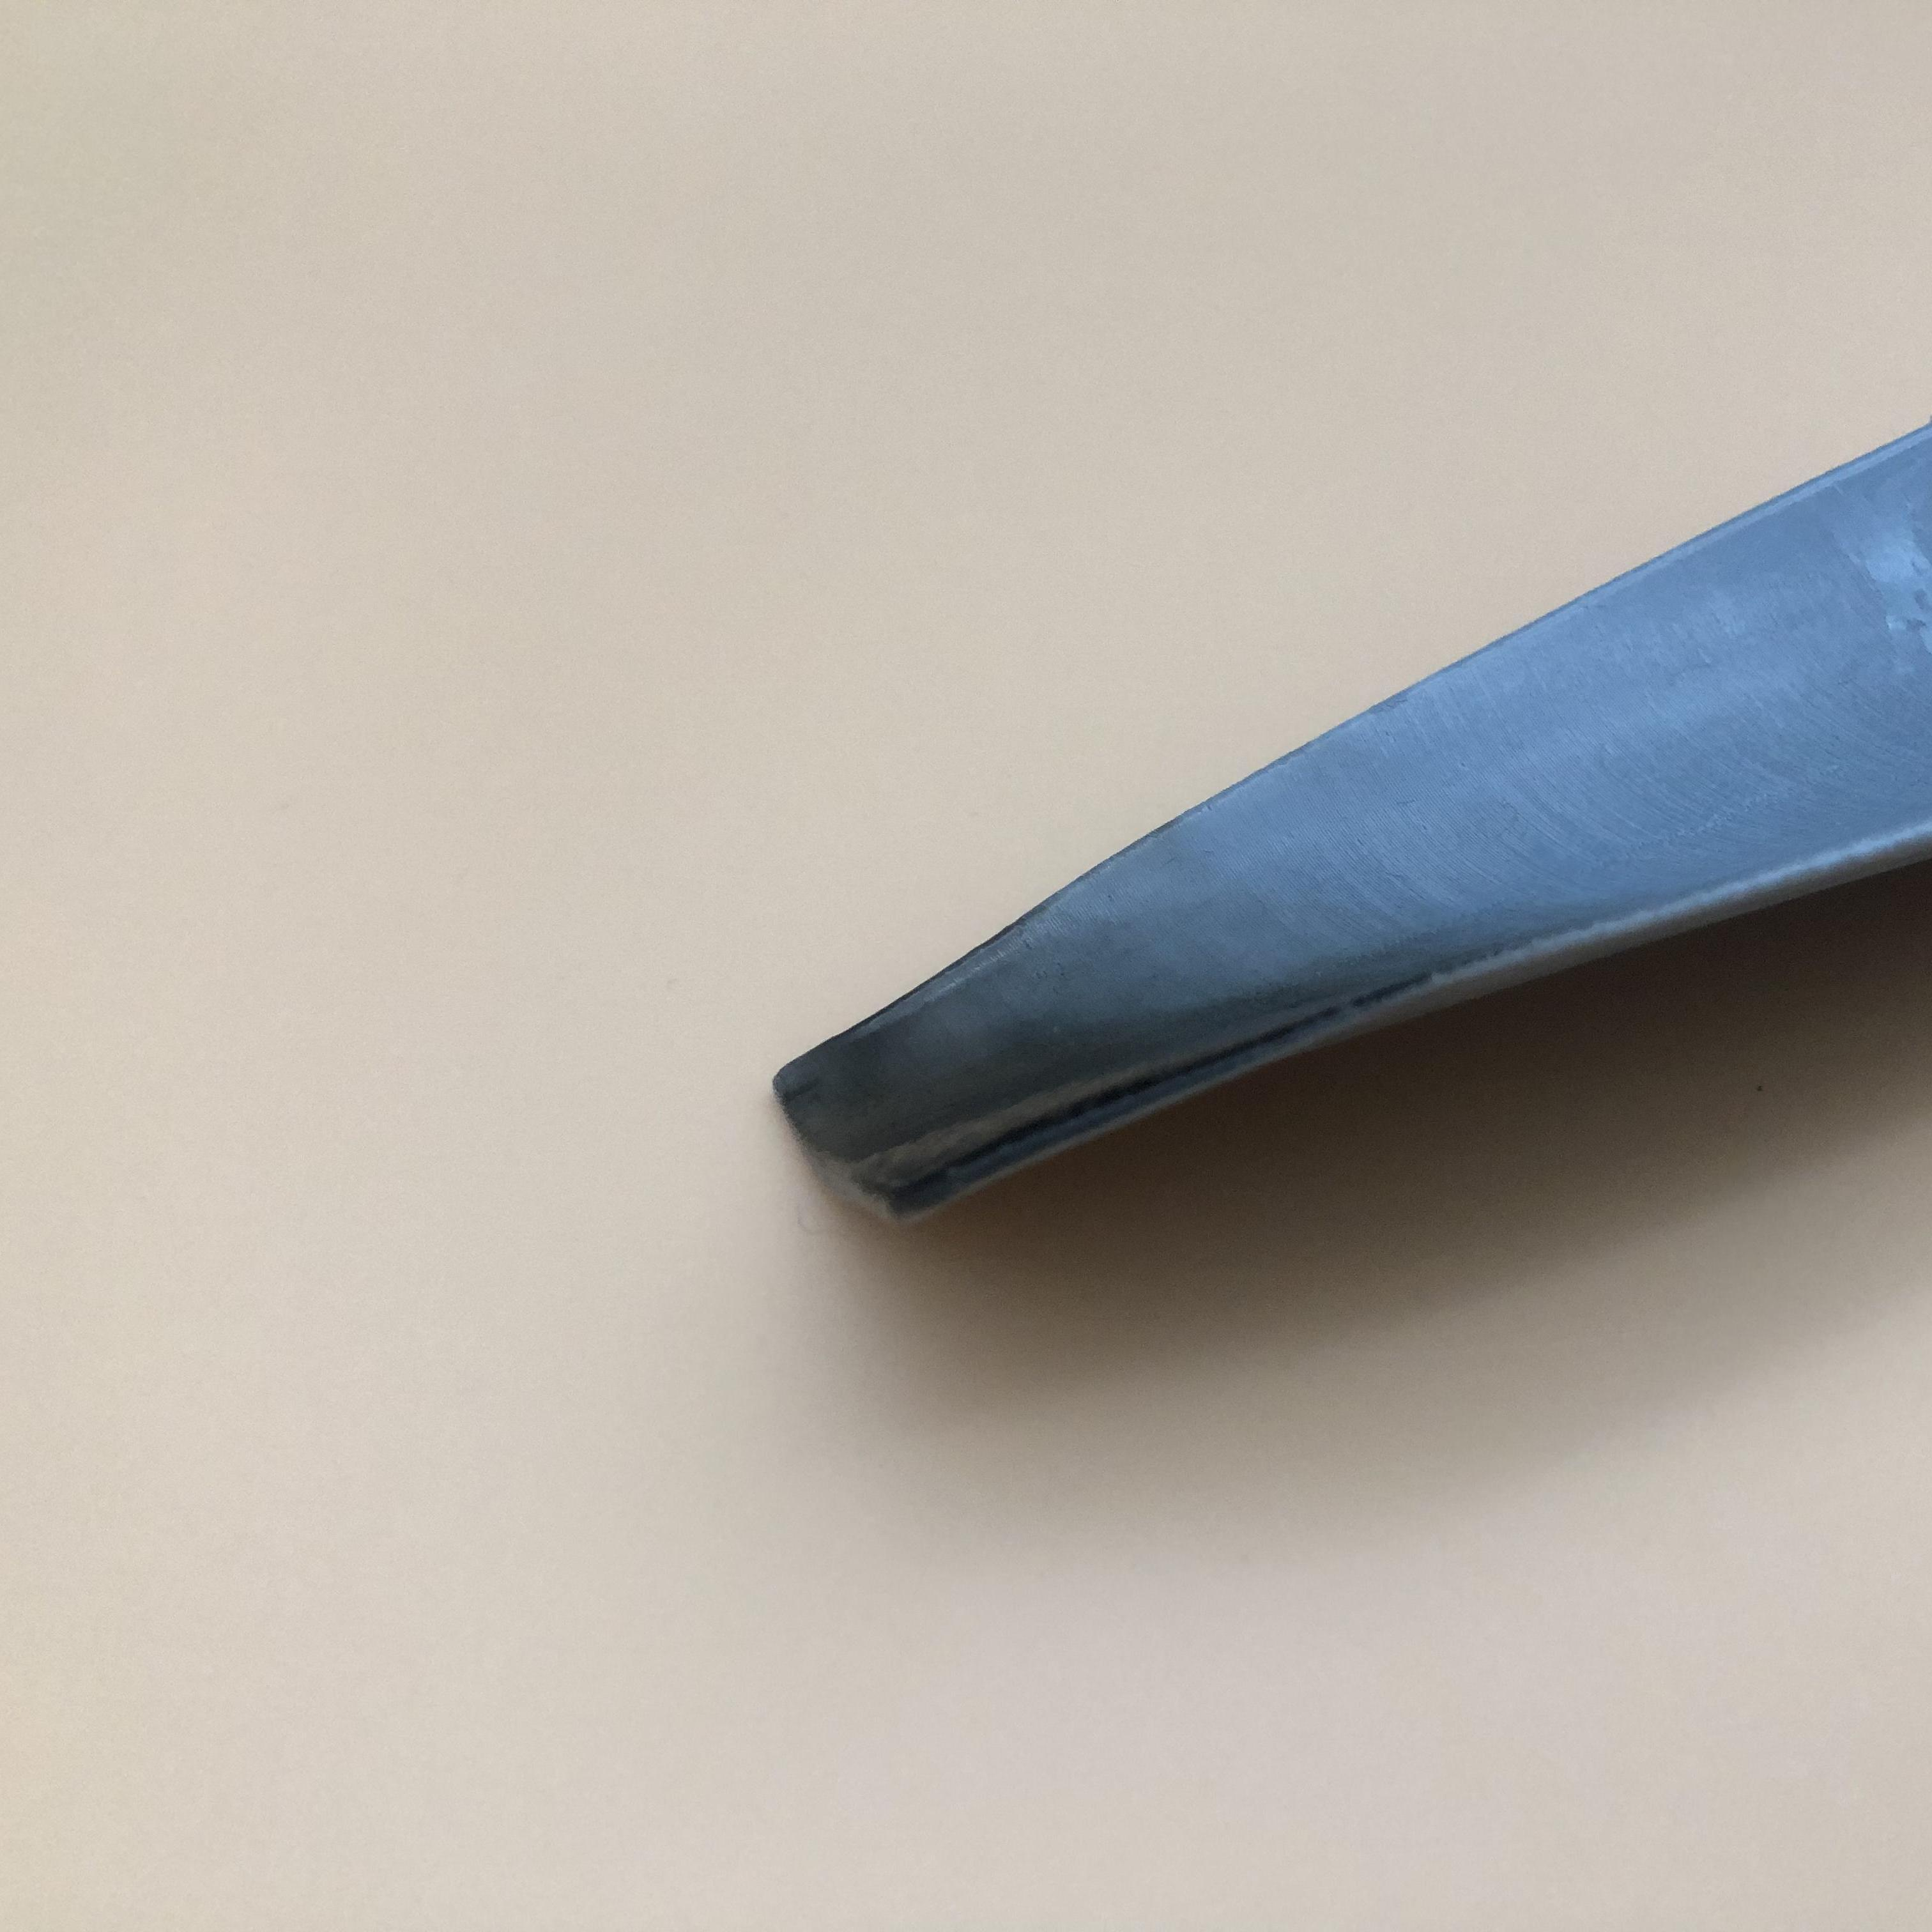ablation: (853, 1024, 1300, 1157)
